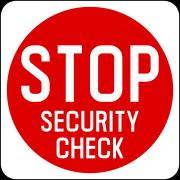Stop: (9, 12, 168, 167)
